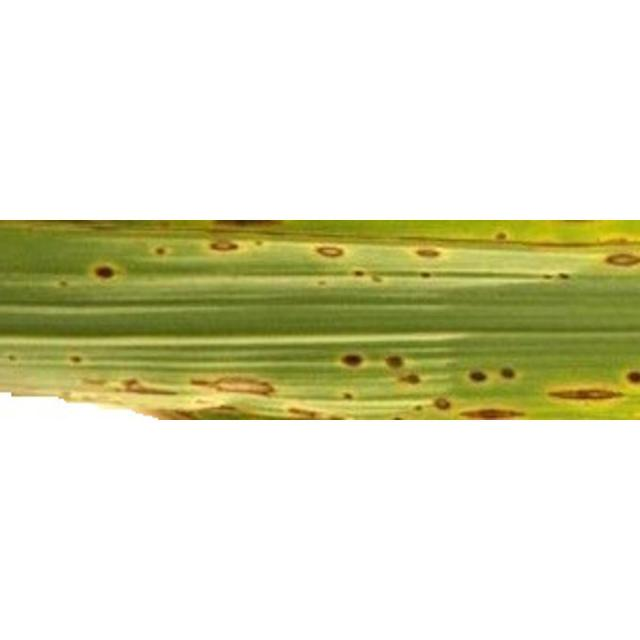Brown spot: (3, 193, 640, 470)
